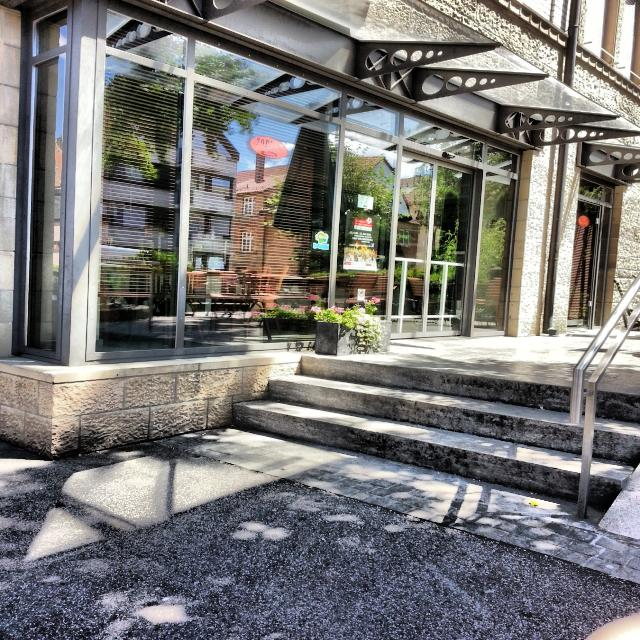escada: (226, 349, 640, 513)
